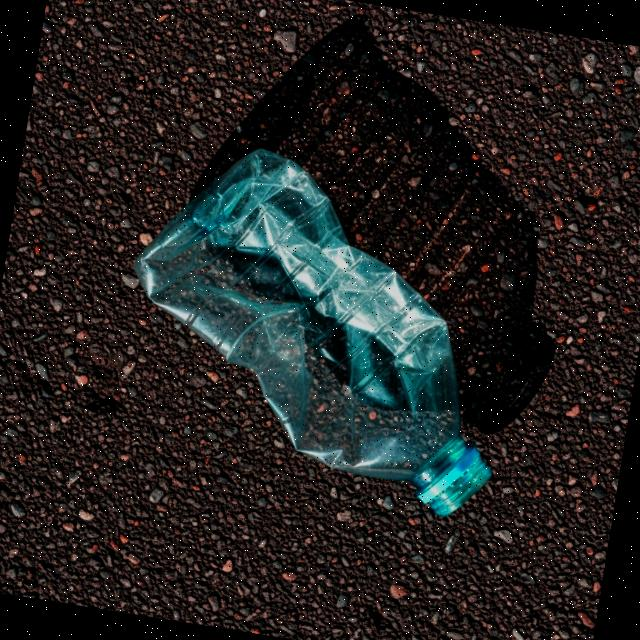plastic: (103, 130, 542, 528)
